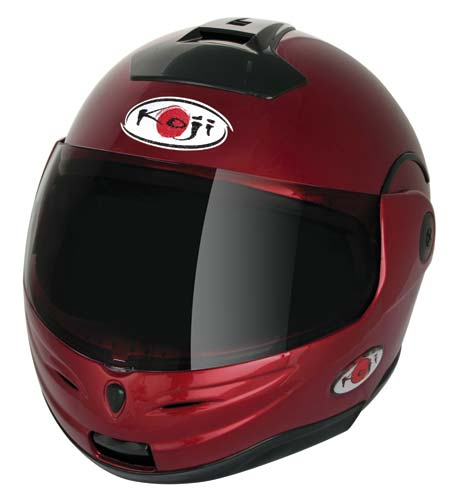helmet: (24, 22, 444, 462)
